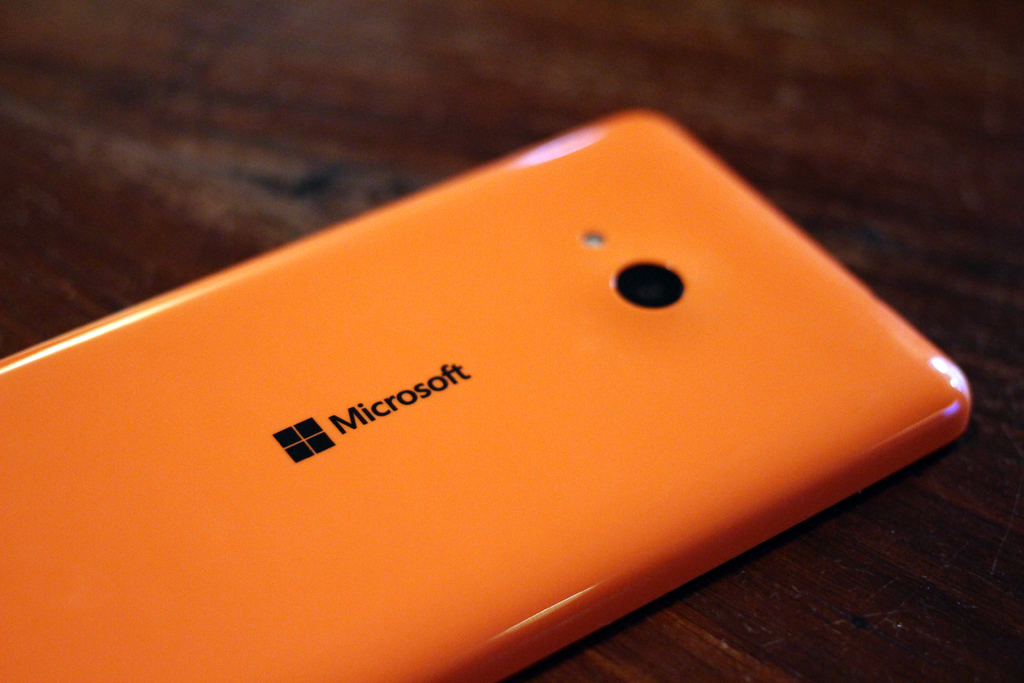Mobile-phone: (0, 110, 972, 682)
